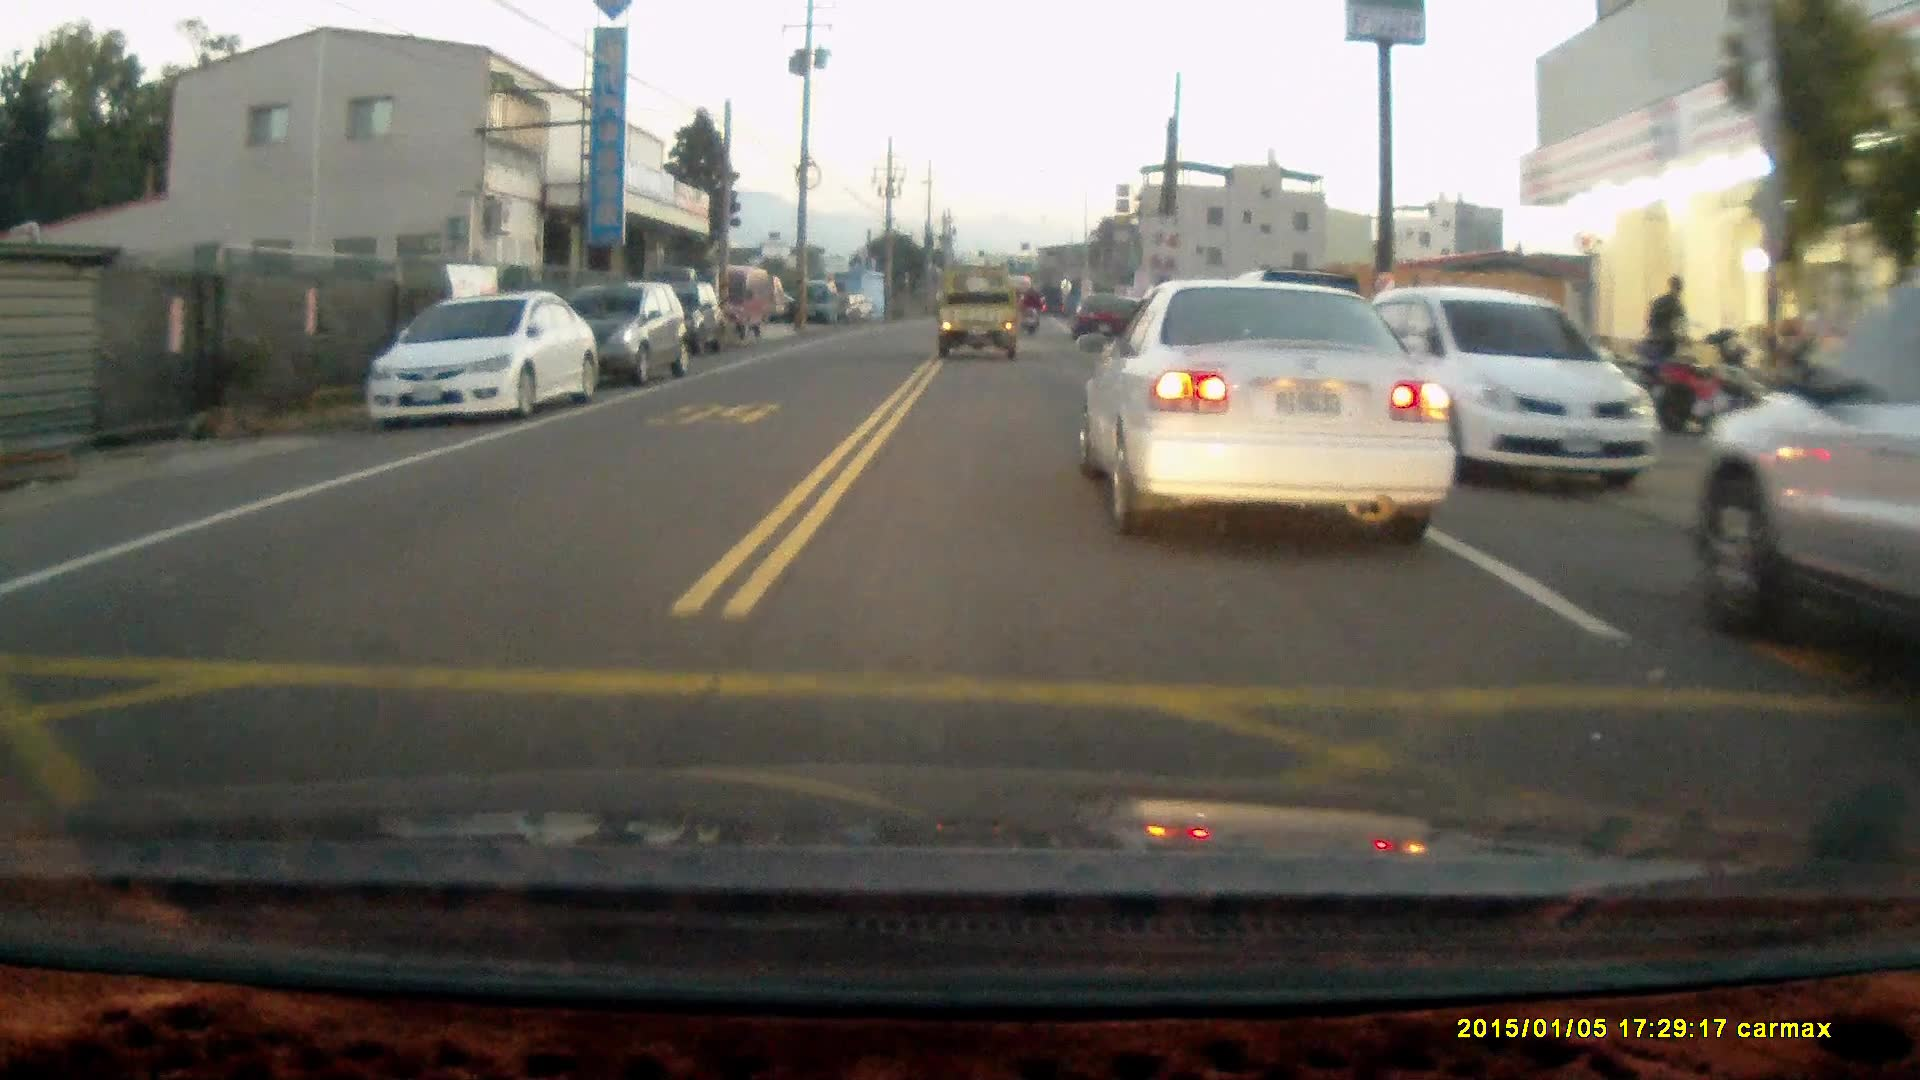pedestrian: (1645, 276, 1691, 388)
rider: (1018, 285, 1044, 333)
vehicle: (1690, 295, 1920, 739), (1086, 281, 1446, 543), (1356, 290, 1670, 499), (366, 291, 602, 433), (540, 286, 693, 398), (938, 272, 1026, 370), (623, 281, 725, 364), (706, 266, 781, 343), (1070, 290, 1132, 340)
